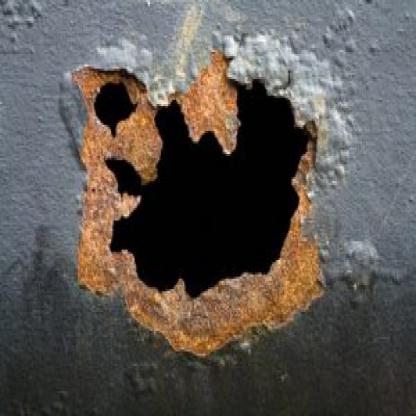burst: (77, 40, 331, 353)
